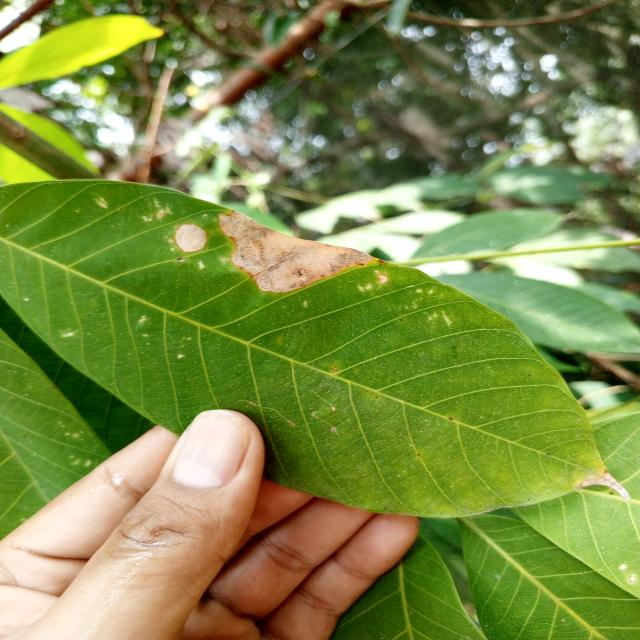Colletotrichum: (332, 367, 338, 371), (449, 418, 453, 420), (418, 454, 420, 456)
Leaf-Blight: (218, 210, 374, 292), (580, 469, 630, 501), (174, 222, 208, 252), (378, 274, 388, 284)
